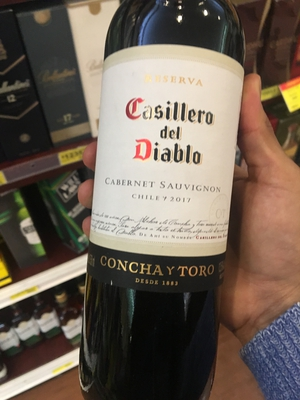casillero del diablo cabernet sauvignon: (85, 15, 240, 397)
